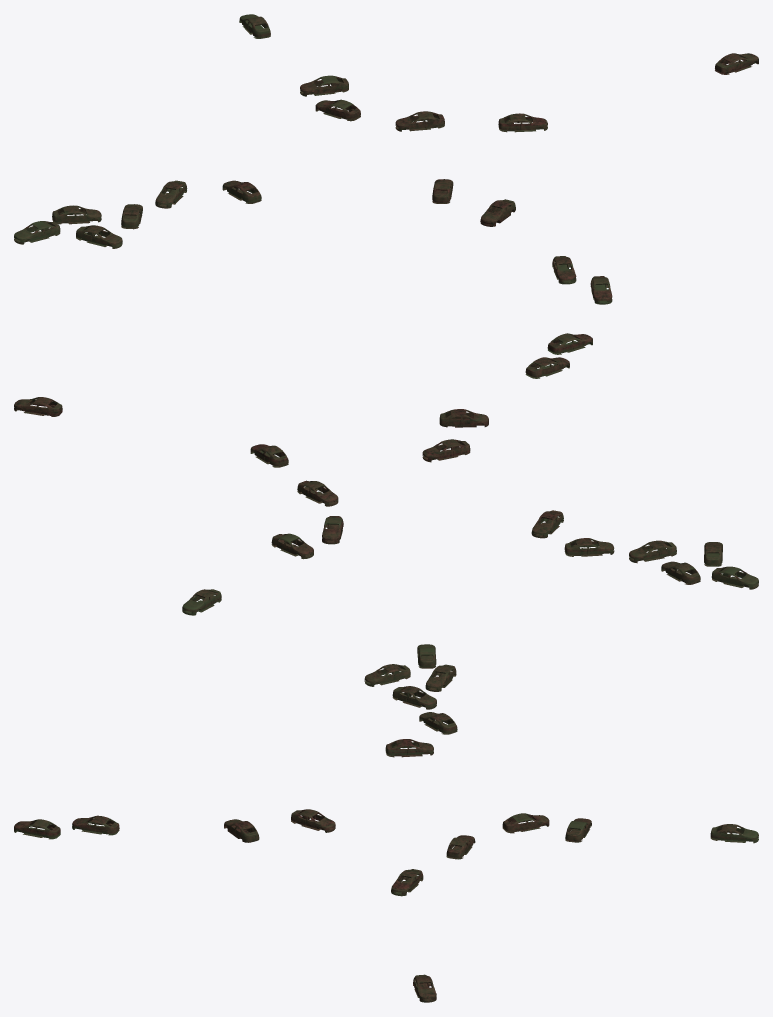
Rendered from Car_2.fbx.
3 renders of one model, top to bottom at view 1: azimuth 30°, elevation 25°; view 2: azimuth 150°, elevation 25°; view 3: azimuth 270°, elevation 25°, orthographic. The views are drawn at different scales.
Parts seen in each view (by area): view 1: city.002; view 2: city.002; view 3: city.002.
Part boxes in pixels (x1,y1,x2,y2): city.002: (14, 14, 758, 304); city.002: (14, 333, 758, 615); city.002: (14, 644, 758, 1002).
Size of the model in its own units: 3476 by 53.43 by 3098.
